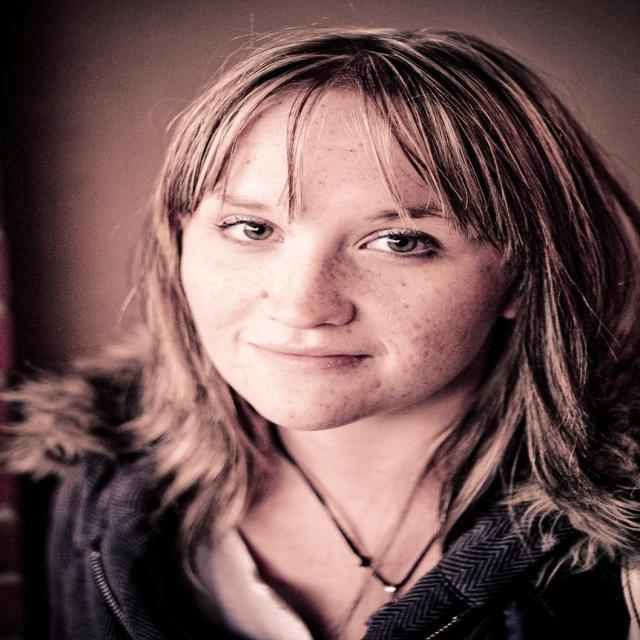no-glass: (201, 222, 436, 264)
